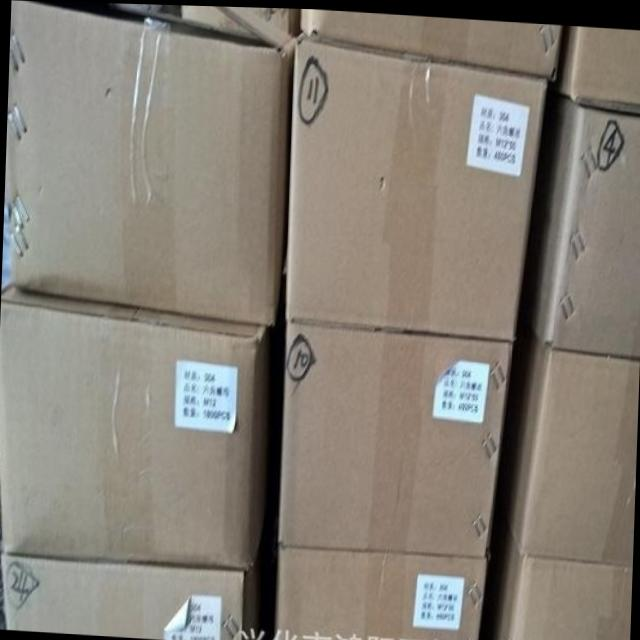box: (4, 0, 295, 322), (0, 279, 277, 570), (286, 35, 547, 336), (280, 313, 512, 554), (493, 305, 638, 563), (0, 512, 271, 640), (518, 74, 640, 352), (478, 489, 631, 640), (276, 542, 485, 640), (293, 7, 562, 75), (101, 2, 299, 44), (550, 26, 640, 109)
